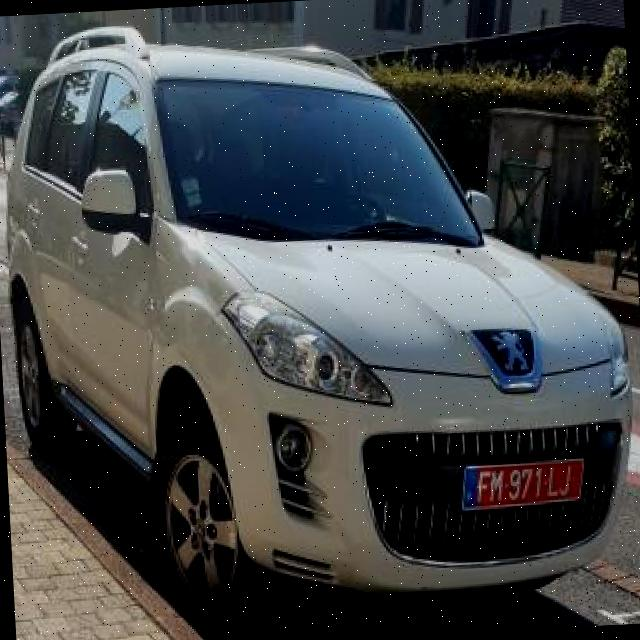EU: (454, 458, 590, 508)
France: (458, 467, 478, 508)
